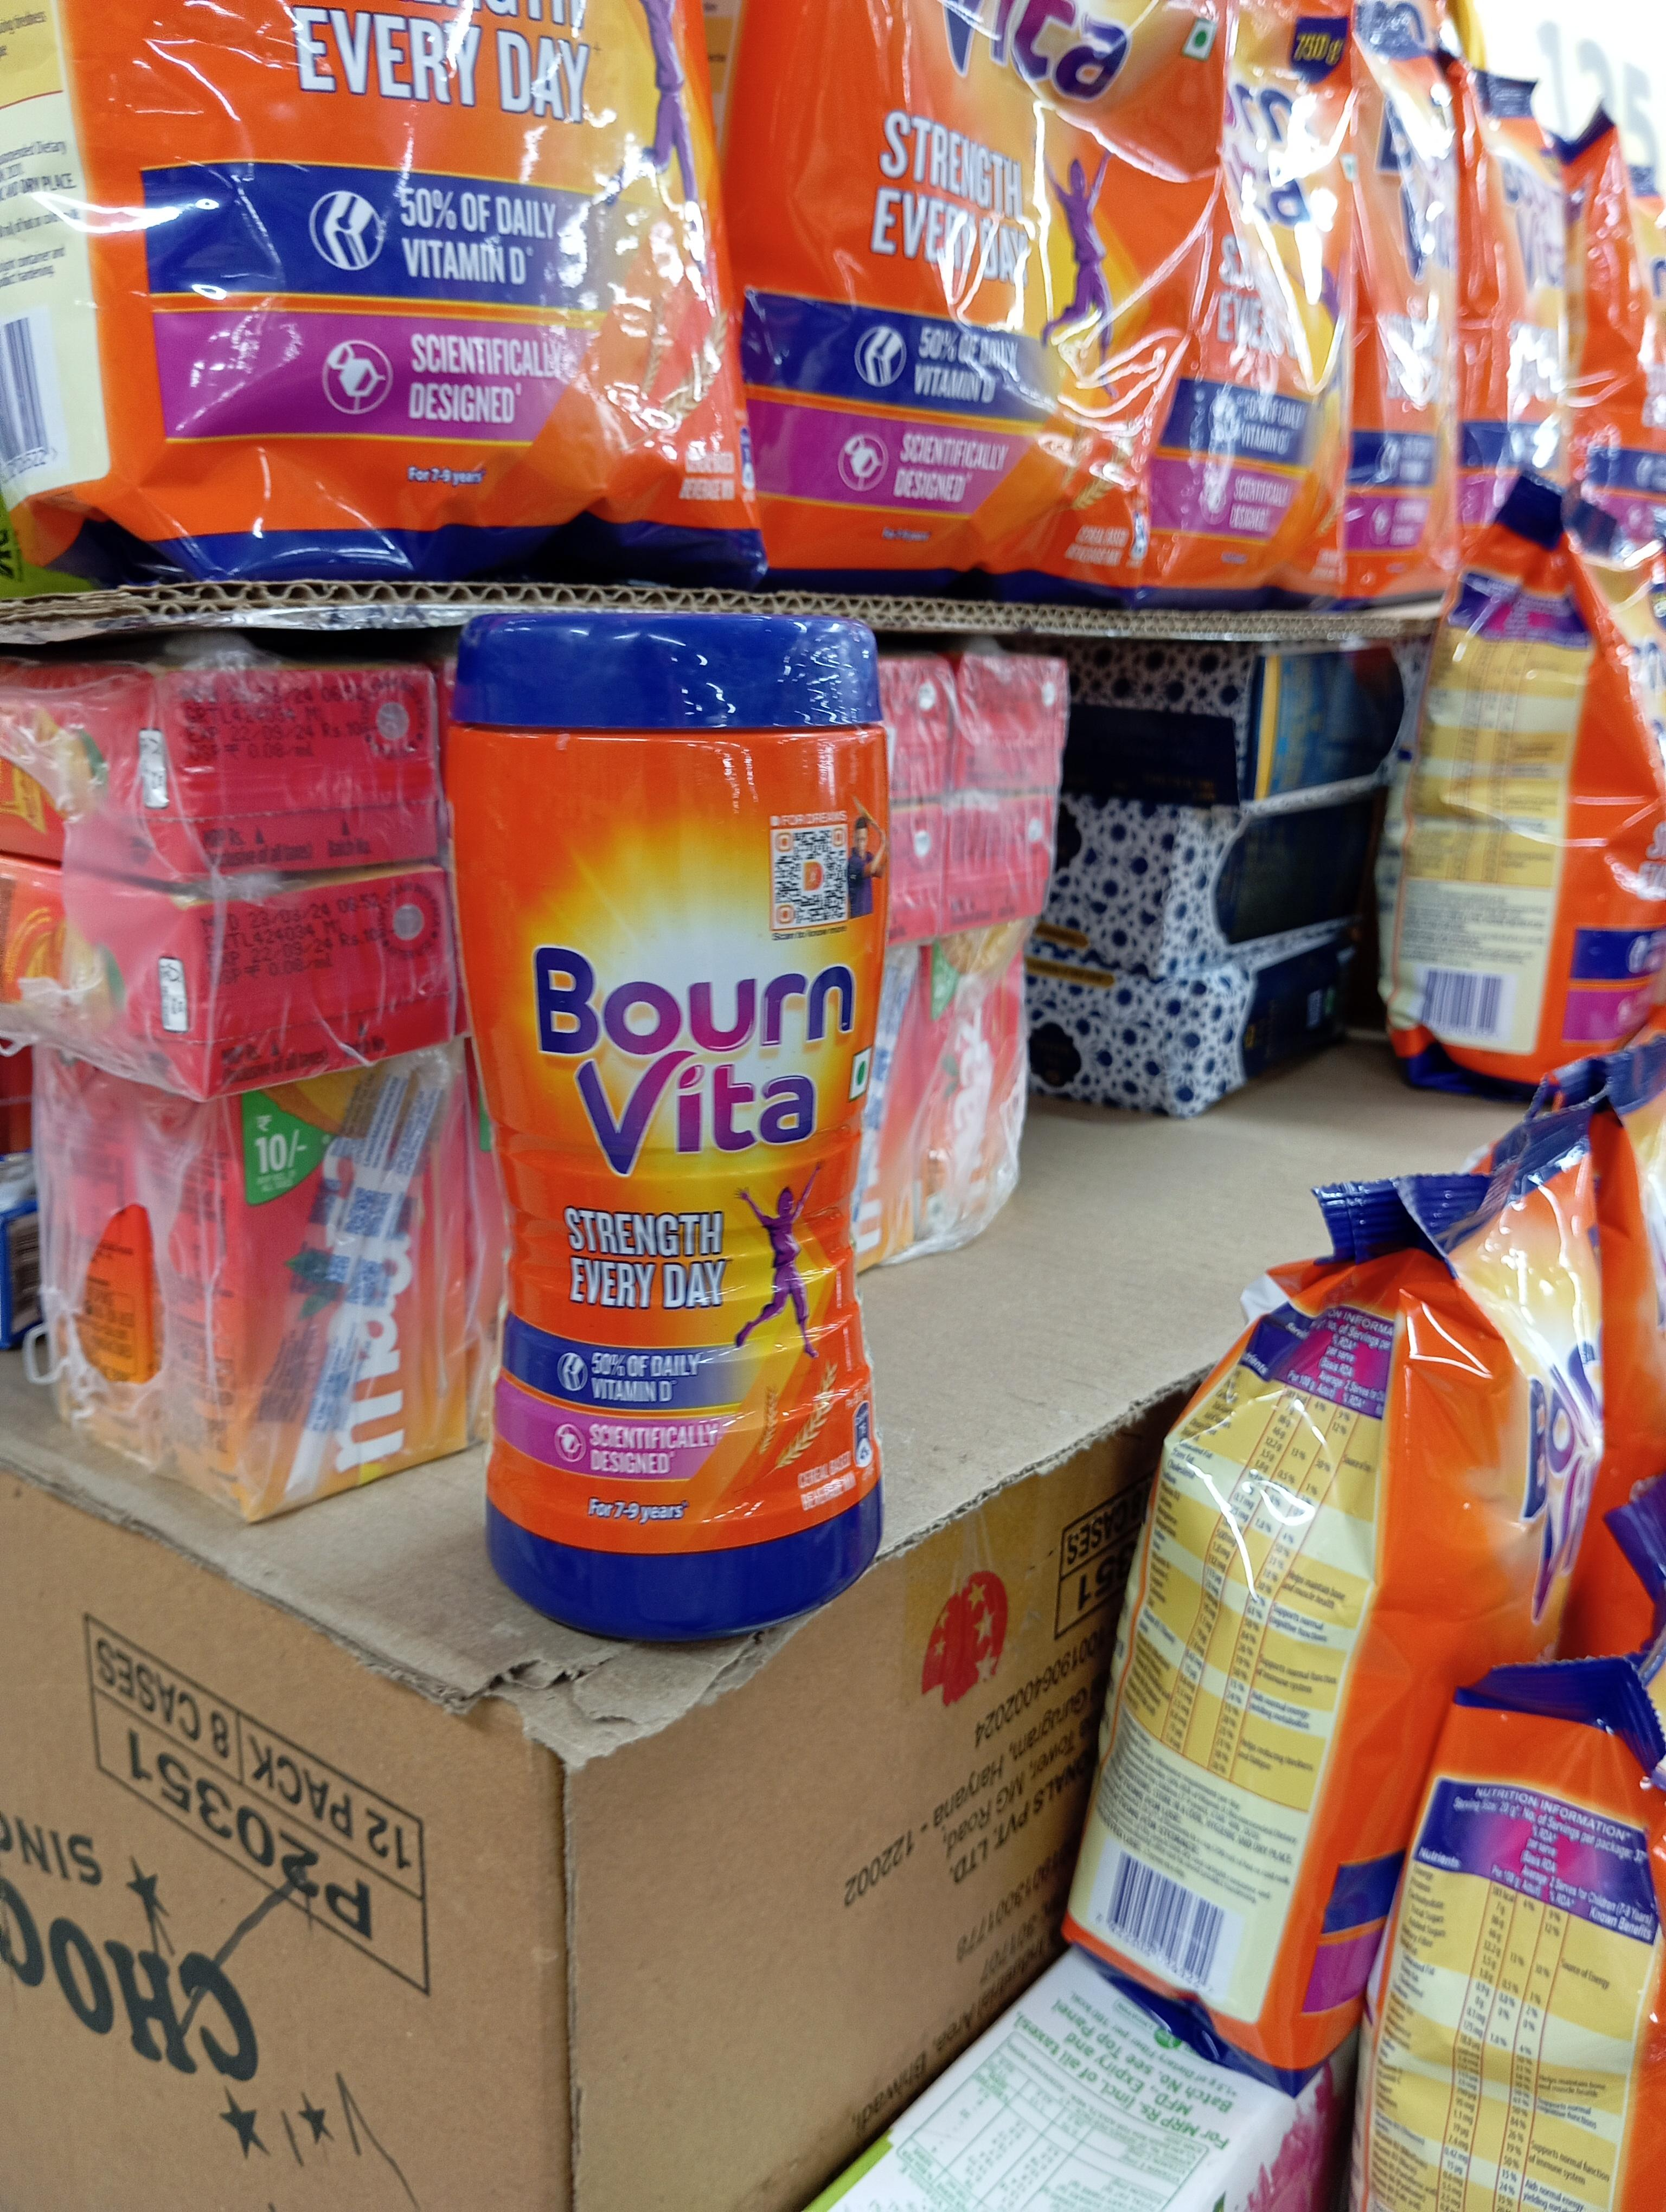BOURN_VITA_200_G_JAR: (450, 547, 887, 1610)
